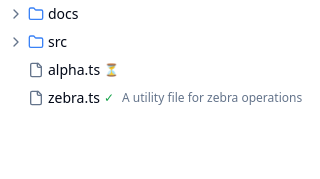
Scenario: FileTree › Expand/collapse interactions › clicking an expanded directory collapses it
Note: Expand "src"
Click the text "src": x=57, y=42 [48,32,67,52]
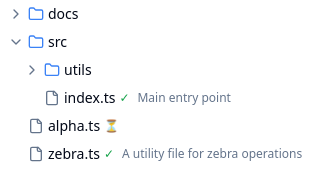
Expected: the text "index.ts" is shown, [64,88,115,108]
Note: Collapse "src"
Click the text "src": x=57, y=42 [48,32,67,52]
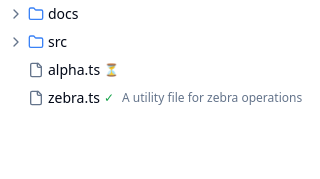
Expected: the text "index.ts" is gone
